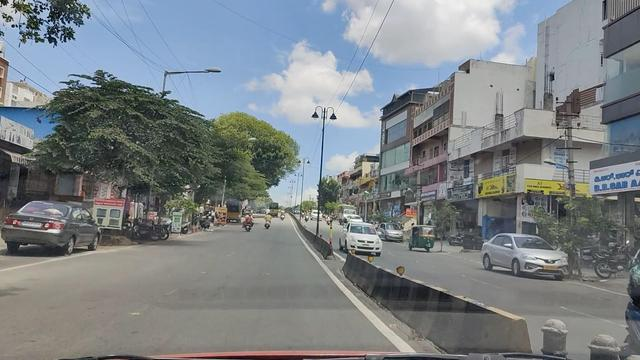LMV: (7, 196, 76, 250), (343, 217, 378, 252), (240, 204, 257, 233)
